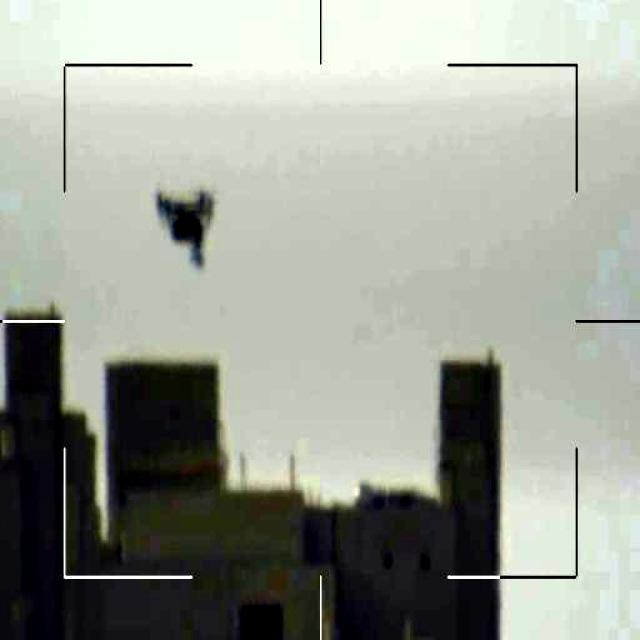bird: (151, 178, 214, 271)
